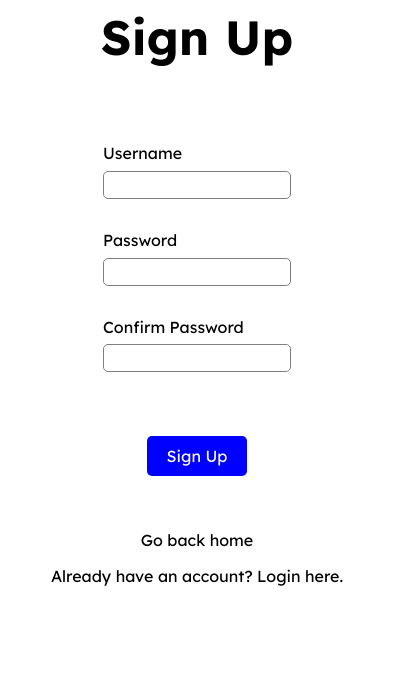
Sign up component password validation tests › should display an error when the password is less than 6 characters long
Type "passw" into the password field labelled "Password" at (197, 272), box 103,258 -> 291,286
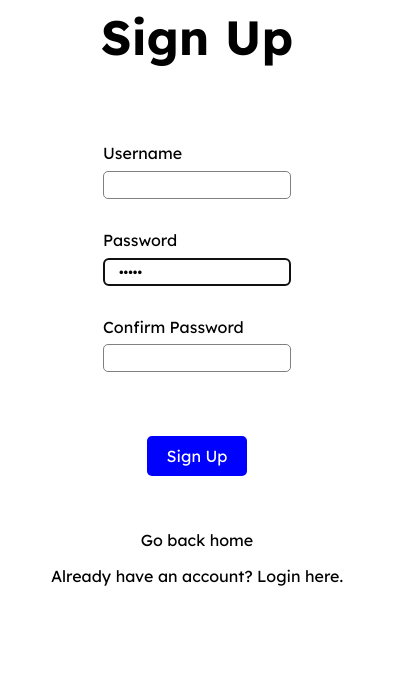
Type "passw" into the password field labelled "Confirm Password" at (197, 358), box 103,344 -> 291,372
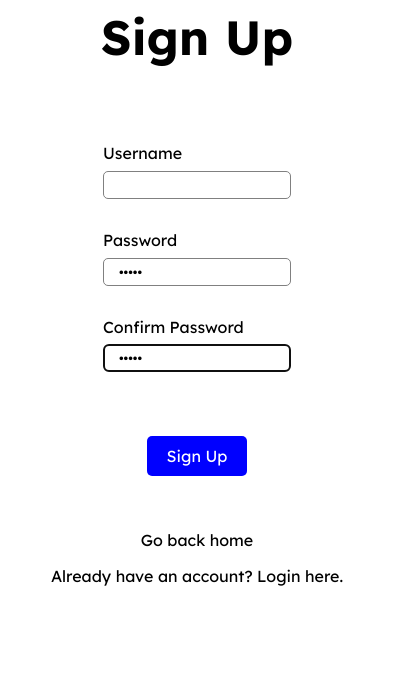
Click the button "Sign Up" at (197, 456), box 147,436 -> 247,476
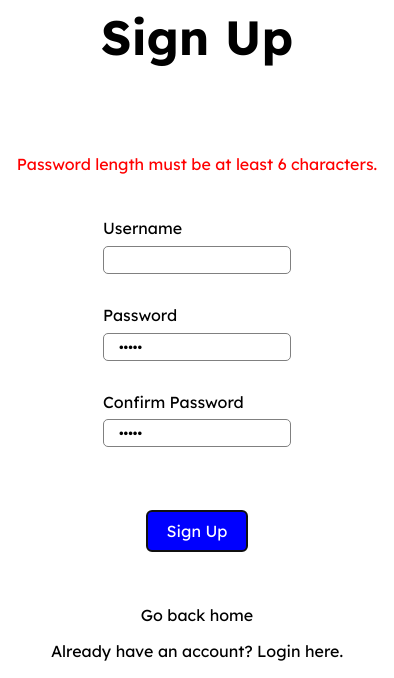
Check: the text "Password length must be at least 6 characters." is shown, box 17,154 -> 377,174
